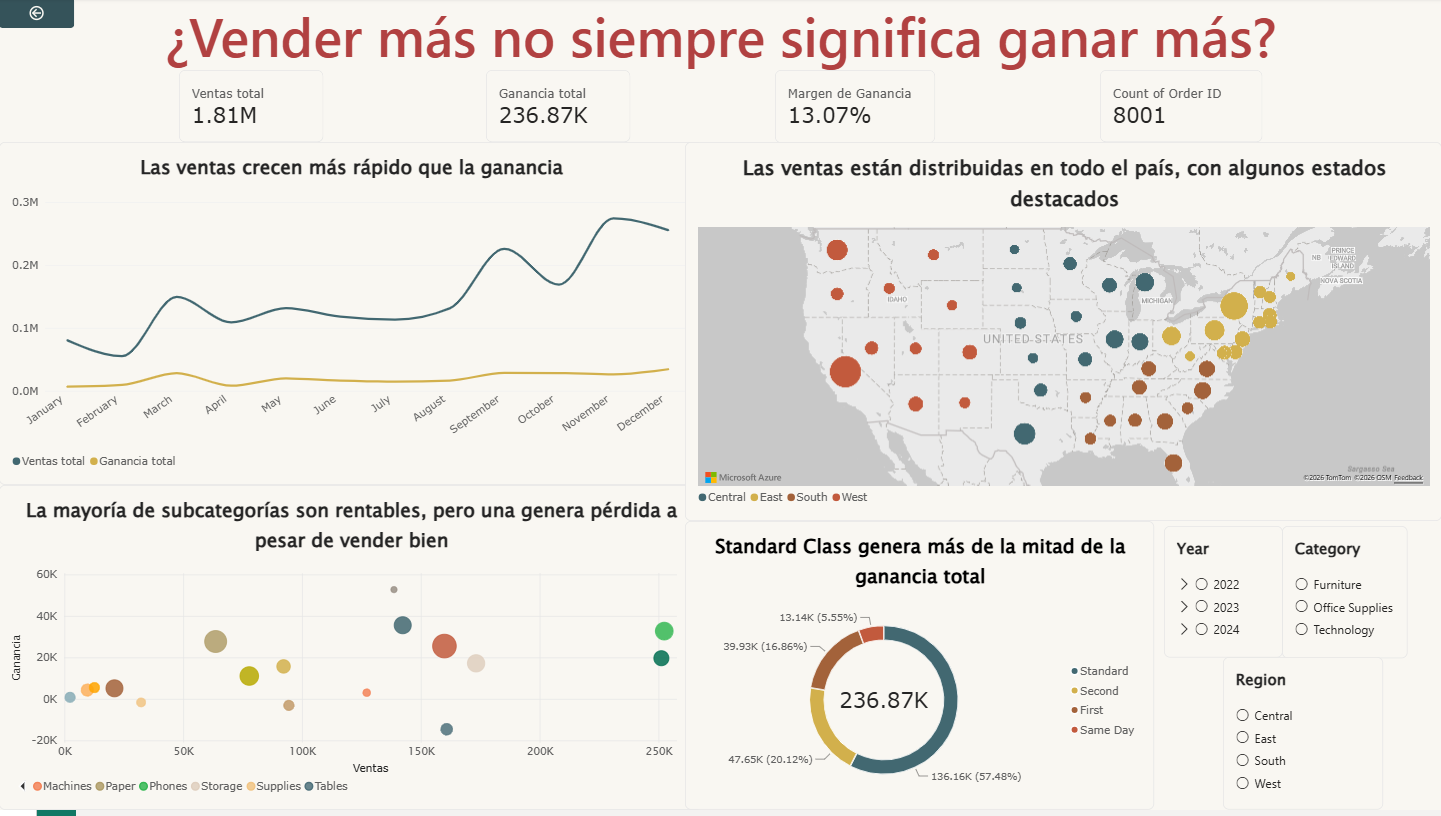

Layout of this report page (visuals, bound fields, positions):
{"tool":"powerbi","page":{"name":"Page 1","canvas":[1920,1080],"ordinal":0},"visuals":[{"type":"cardVisual","fields":{"Data":["Merge1.Sales Total"]},"box":[240,96,192,96],"z":0},{"type":"cardVisual","fields":{"Data":["Merge1.Profit Total"]},"box":[648,96,192,96],"z":1000},{"type":"cardVisual","fields":{"Data":["Divide(Merge1.Margen de Ganancia, ScopedEval(Merge1.Margen de Ganancia, []))"]},"box":[1032.4,95.6,213.2,97.1],"z":2000},{"type":"cardVisual","fields":{"Data":["CountNonNull(Merge1.Order ID)"]},"box":[1464,96,216,96],"z":3000},{"type":"lineChart","title":"Las ventas crecen más rápido que la ganancia","fields":{"Category":["Merge1.Order Date.Variation.Date Hierarchy.Month"],"Y":["Merge1.Sales Total","Merge1.Profit Total"]},"box":[0,192,936,456],"z":4000},{"type":"scatterChart","title":"La mayoría de subcategorías son rentables, pero una genera pérdida a pesar de vender bien","fields":{"Series":["Merge1.Sub-Category"],"Size":["Sum(Merge1.Quantity)"],"X":["Sum(Merge1.Sales)"],"Y":["Sum(Merge1.Profit)"]},"box":[0,648,936,432],"z":5000},{"type":"azureMap","title":"Las ventas están distribuidas en todo el país, con algunos estados destacados","fields":{"Category":["Merge1.State"],"Series":["Merge1.Region"],"Size":["Sum(Merge1.Sales)"]},"box":[912,192,1008,504],"z":6000},{"type":"actionButton","box":[0,0,100,40],"z":7000},{"type":"donutChart","title":"Standard Class genera más de la mitad de la ganancia total","fields":{"Category":["Merge1.Ship Mode"],"Y":["Merge1.Profit Total"]},"box":[912,696,624,384],"z":8000},{"type":"listSlicer","fields":{"Values":["Merge1.Category"]},"box":[1705.9,702,166.7,176.5],"z":9000},{"type":"listSlicer","fields":{"Values":["Merge1.Region"]},"box":[1627.5,876.5,212.5,202.5],"z":10000},{"type":"listSlicer","fields":{"Values":["Merge1.Order Date.Variation.Date Hierarchy.Year","Merge1.Order Date.Variation.Date Hierarchy.Month"]},"box":[1549,702,157.5,175],"z":11000},{"type":"textbox","box":[0,0,1920,96],"z":11001}]}

Visuals, with their boxes in screenshot pixels (x1, y1, x2, y2), scaled from the page's 1920x1080 canvas onto the 1441x816 screenshot:
cardVisual - Merge1.Sales Total: select_region(180, 73, 324, 145)
cardVisual - Merge1.Profit Total: select_region(486, 73, 630, 145)
cardVisual - Divide(Merge1.Margen de Ganancia, ScopedEval(Merge1.Margen de Ganancia, [])): select_region(775, 72, 935, 146)
cardVisual - CountNonNull(Merge1.Order ID): select_region(1099, 73, 1261, 145)
"Las ventas crecen más rápido que la ganancia" lineChart: select_region(0, 145, 702, 490)
"La mayoría de subcategorías son rentables, pero una genera pérdida a pesar de vender bien" scatterChart: select_region(0, 490, 702, 815)
"Las ventas están distribuidas en todo el país, con algunos estados destacados" azureMap: select_region(684, 145, 1440, 526)
actionButton: select_region(0, 0, 75, 30)
"Standard Class genera más de la mitad de la ganancia total" donutChart: select_region(684, 526, 1153, 815)
listSlicer - Merge1.Category: select_region(1280, 530, 1405, 664)
listSlicer - Merge1.Region: select_region(1221, 662, 1381, 815)
listSlicer - Merge1.Order Date.Variation.Date Hierarchy.Year x Merge1.Order Date.Variation.Date Hierarchy.Month: select_region(1163, 530, 1281, 663)
textbox: select_region(0, 0, 1440, 73)
